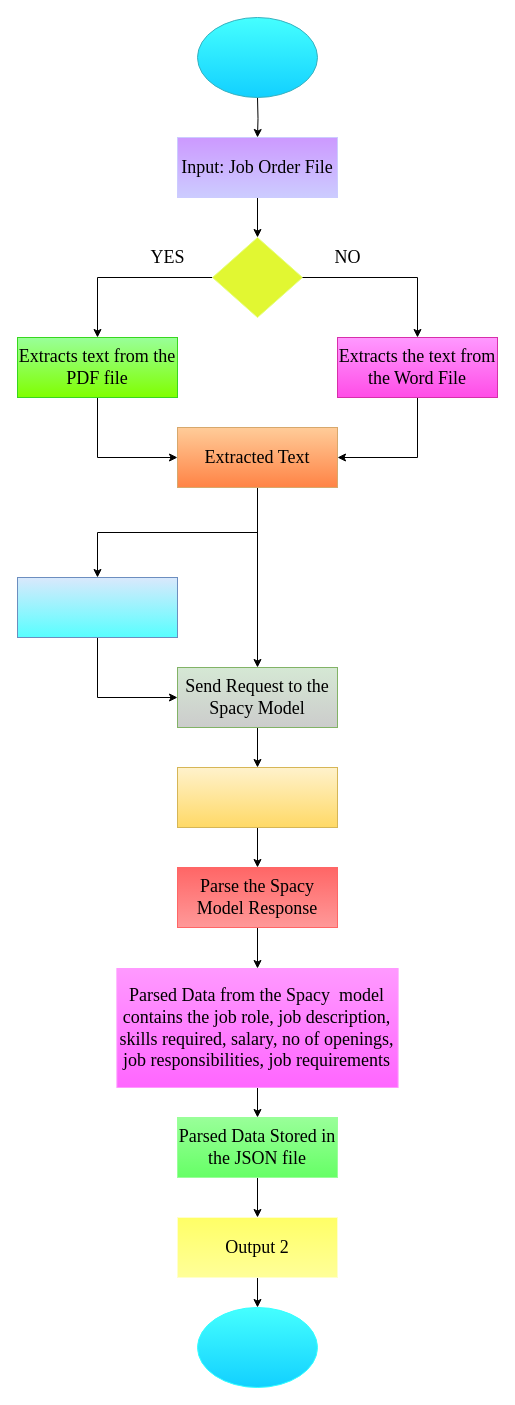
The diagram is 515 pixels wide and 1405 high, and some of its shapes have lost their labels. Each missing label, with the box of its shape:
End: (196, 1306, 318, 1388)
is PDF: (212, 236, 302, 318)
Query to parse the Job Order File: (16, 576, 178, 638)
Spacy Model Response: (176, 766, 338, 828)
Start: (196, 16, 318, 98)
